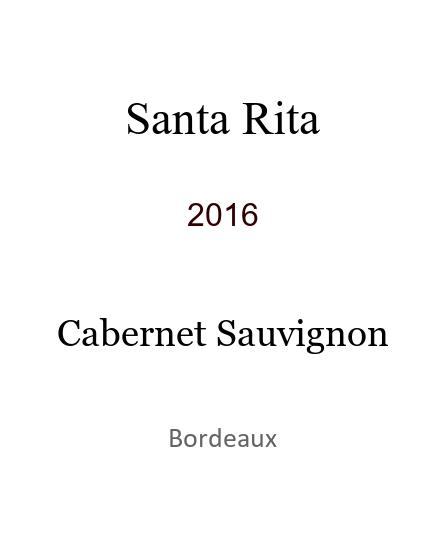brand: (125, 92, 320, 125)
region: (168, 426, 277, 445)
variety: (57, 312, 389, 348)
vintage: (187, 197, 259, 220)
